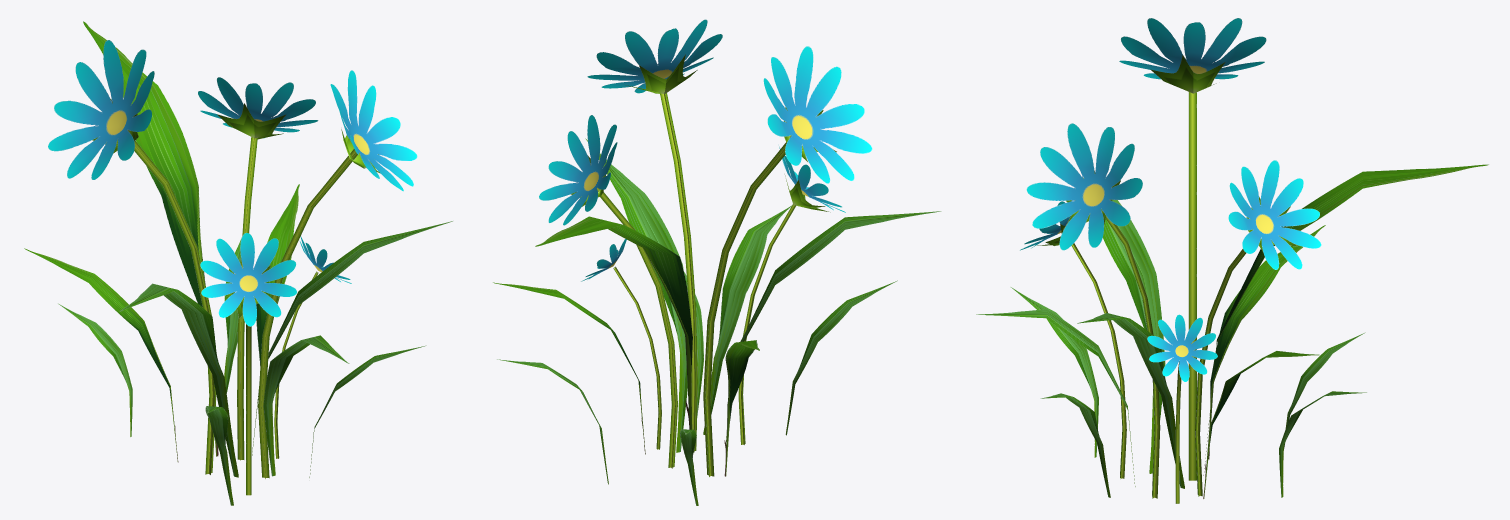
File: Flower_05.FBX
3 views of the same model, side by side, from view 1: azimuth 30°, elevation 25°; view 2: azimuth 150°, elevation 25°; view 3: azimuth 270°, elevation 25° (orthographic). The views are drawn at different scales.
Visible parts, largest first — view 1: Flower_05; view 2: Flower_05; view 3: Flower_05.
Boxes of the visible parts, x1,y1,x2,y2 form: Flower_05: (24,21,452,505); Flower_05: (493,19,941,505); Flower_05: (976,18,1488,503).
Size of the model in its own units: 45.75 by 52.53 by 56.98.
